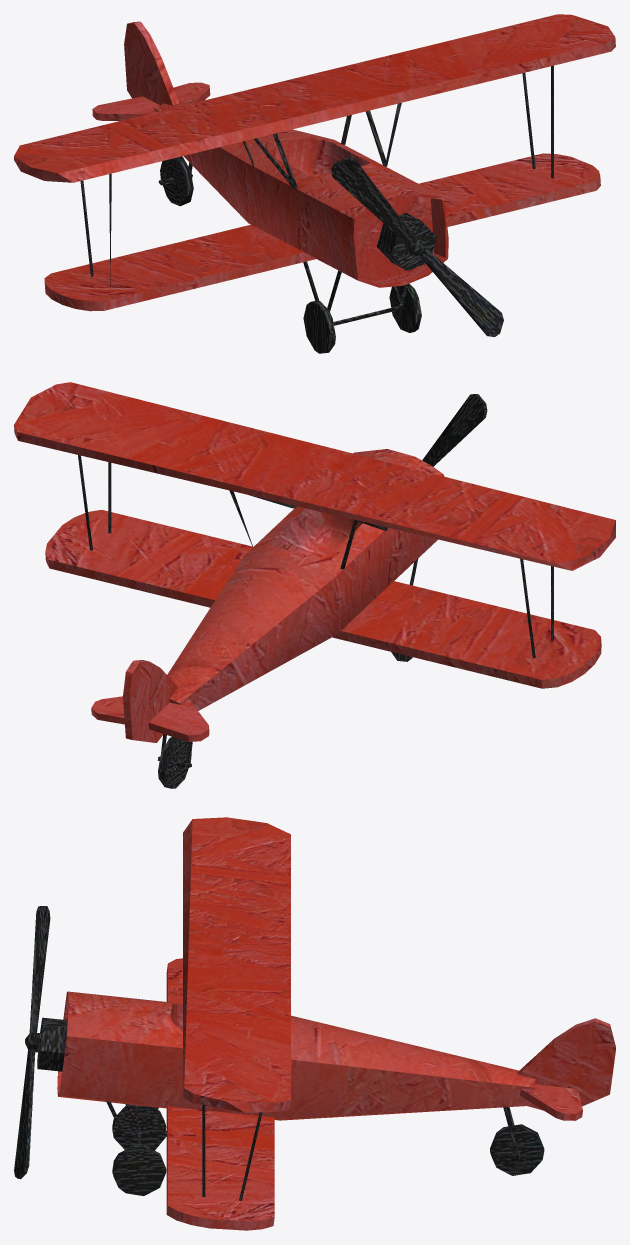
File: airplane.FBX
The picture shows the model from 3 angles, top to bottom: view 1: azimuth 30°, elevation 25°; view 2: azimuth 150°, elevation 25°; view 3: azimuth 270°, elevation 25°; orthographic projection.
Visible parts, largest first — view 1: airplane; view 2: airplane; view 3: airplane.
Part boxes in pixels (x1,y1,x2,y2): airplane: (14,14,615,353); airplane: (14,382,615,788); airplane: (14,817,615,1230).
Bounding box in the file's own units: 36.14 × 14 × 32.32.
Materials: 1 (1 with a texture image).
